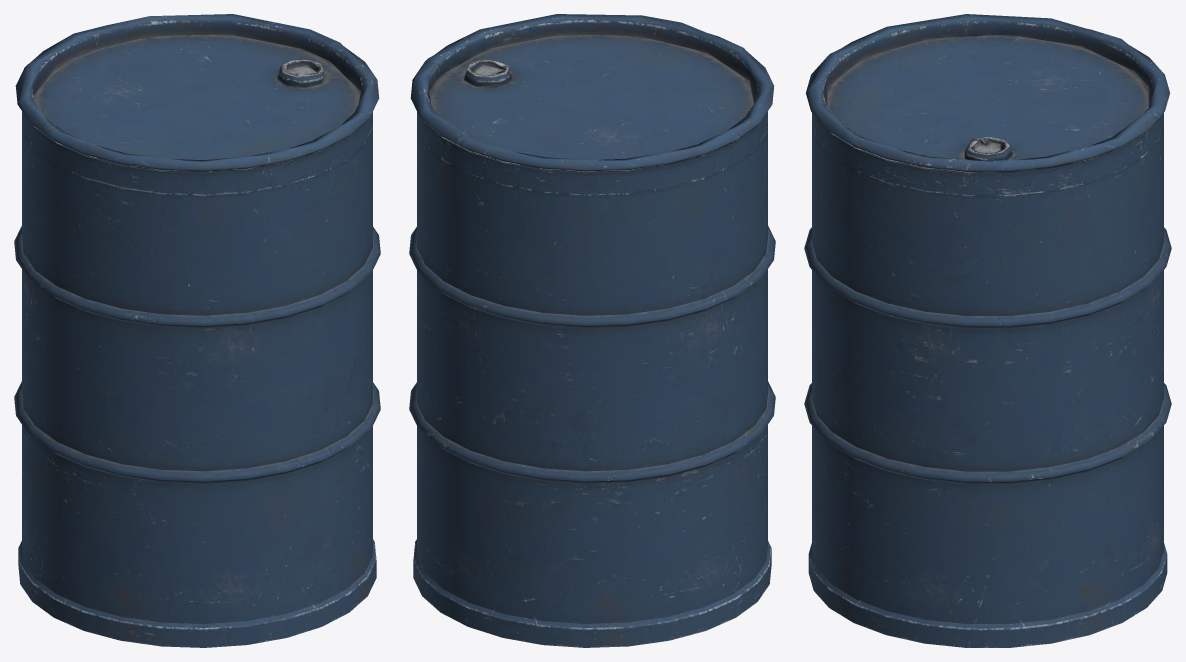
File: barrel_03.glb
3 renders of one model, left to right at view 1: azimuth 30°, elevation 25°; view 2: azimuth 150°, elevation 25°; view 3: azimuth 270°, elevation 25°, orthographic.
Visible parts, largest first — view 1: barrel_03; view 2: barrel_03; view 3: barrel_03.
Boxes of the visible parts, x1,y1,x2,y2 form: barrel_03: (14, 14, 380, 647); barrel_03: (409, 14, 775, 647); barrel_03: (804, 14, 1171, 647).
Size of the model in its own units: 0.634 by 0.9305 by 0.6386.
Materials: 1 (1 with a texture image).
